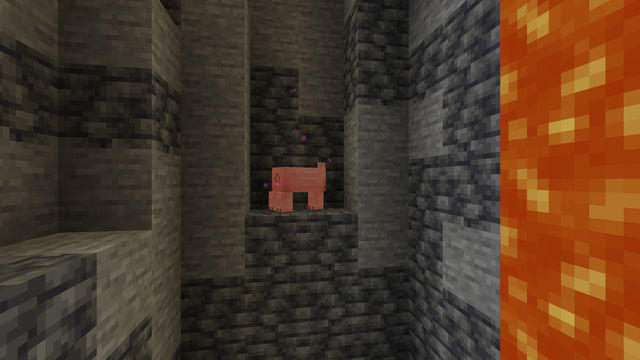cochons: (276, 165, 322, 211)
